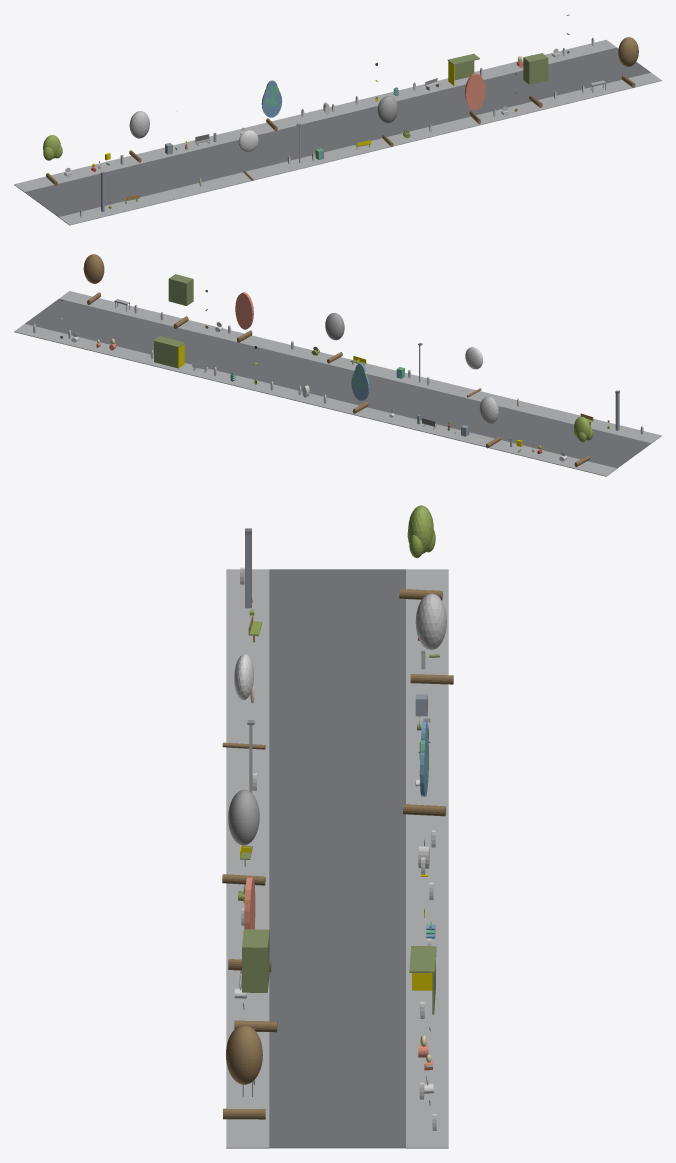
The picture shows the model from 3 angles, top to bottom: view 1: azimuth 30°, elevation 25°; view 2: azimuth 150°, elevation 25°; view 3: azimuth 270°, elevation 25°; orthographic projection. The views are drawn at different scales.
Parts seen in each view (by area): view 1: road_slab, sidewalk_left, sidewalk_right, inst_0024, inst_0023, inst_0021, inst_0026, inst_0025, inst_0022, inst_0019, inst_0018, inst_0020; view 2: road_slab, sidewalk_right, sidewalk_left, inst_0026, inst_0024, inst_0023, inst_0021, inst_0025, inst_0019, inst_0022, inst_0018, inst_0020; view 3: road_slab, sidewalk_right, sidewalk_left, inst_0025, inst_0024, inst_0019, inst_0022, inst_0018, inst_0026, inst_0021, inst_0020.
Boxes of the visible parts, x1,y1,x2,y2 form: road_slab: (24,47,650,217); sidewalk_left: (59,72,661,225); sidewalk_right: (14,39,616,192); inst_0024: (523,53,548,107); inst_0023: (465,73,485,124); inst_0021: (261,80,282,131); inst_0026: (447,53,479,85); inst_0025: (618,37,638,87); inst_0022: (377,96,398,146); inst_0019: (129,111,149,162); inst_0018: (43,135,62,185); inst_0020: (238,130,258,180); road_slab: (25,299,651,468); sidewalk_right: (14,324,616,476); sidewalk_left: (59,291,661,443); inst_0026: (153,336,185,368); inst_0024: (168,274,193,328); inst_0023: (235,292,253,342); inst_0021: (351,363,369,413); inst_0025: (83,254,104,304); inst_0019: (479,396,500,448); inst_0022: (325,313,344,363); inst_0018: (574,416,592,467); inst_0020: (465,347,482,397); road_slab: (269,569,405,1148); sidewalk_right: (406,569,448,1148); sidewalk_left: (226,569,269,1148); inst_0025: (223,1025,265,1119); inst_0024: (234,929,277,1032); inst_0019: (410,593,453,684); inst_0022: (222,789,265,885); inst_0018: (399,505,442,600); inst_0026: (409,946,436,1014); inst_0021: (403,721,445,816); inst_0020: (222,653,265,749).
Bounding box in the file's own units: 80 × 6.08 × 13.53.
